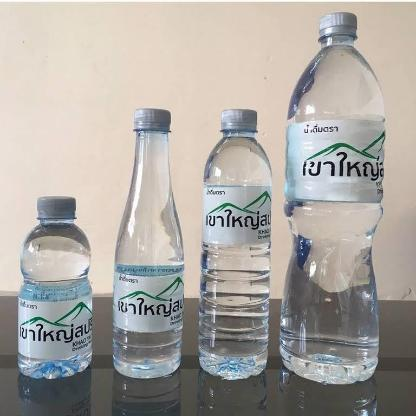Plastic Bottle: (281, 13, 397, 388), (110, 97, 188, 386), (196, 100, 276, 378), (13, 182, 105, 388)
